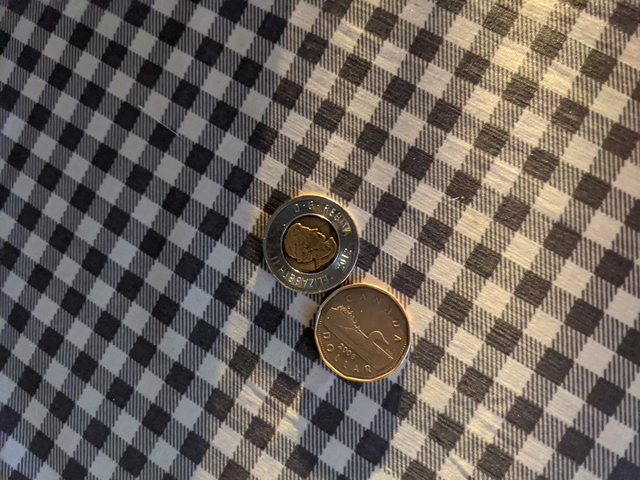loonie: (301, 278, 420, 386)
twonie: (261, 186, 370, 293)
